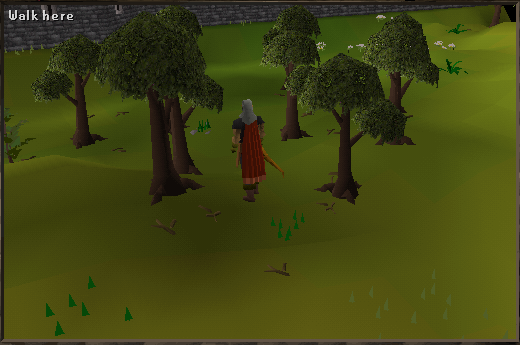Tree: (119, 6, 201, 188), (306, 57, 381, 203), (258, 9, 319, 147), (37, 28, 102, 152), (376, 18, 432, 144)
